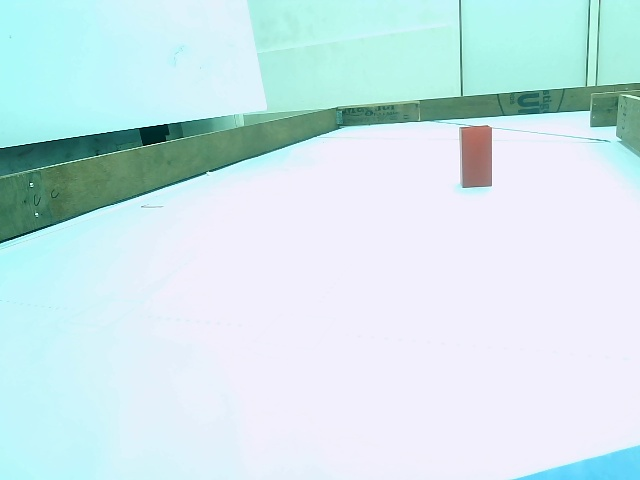red: (460, 126, 491, 190)
